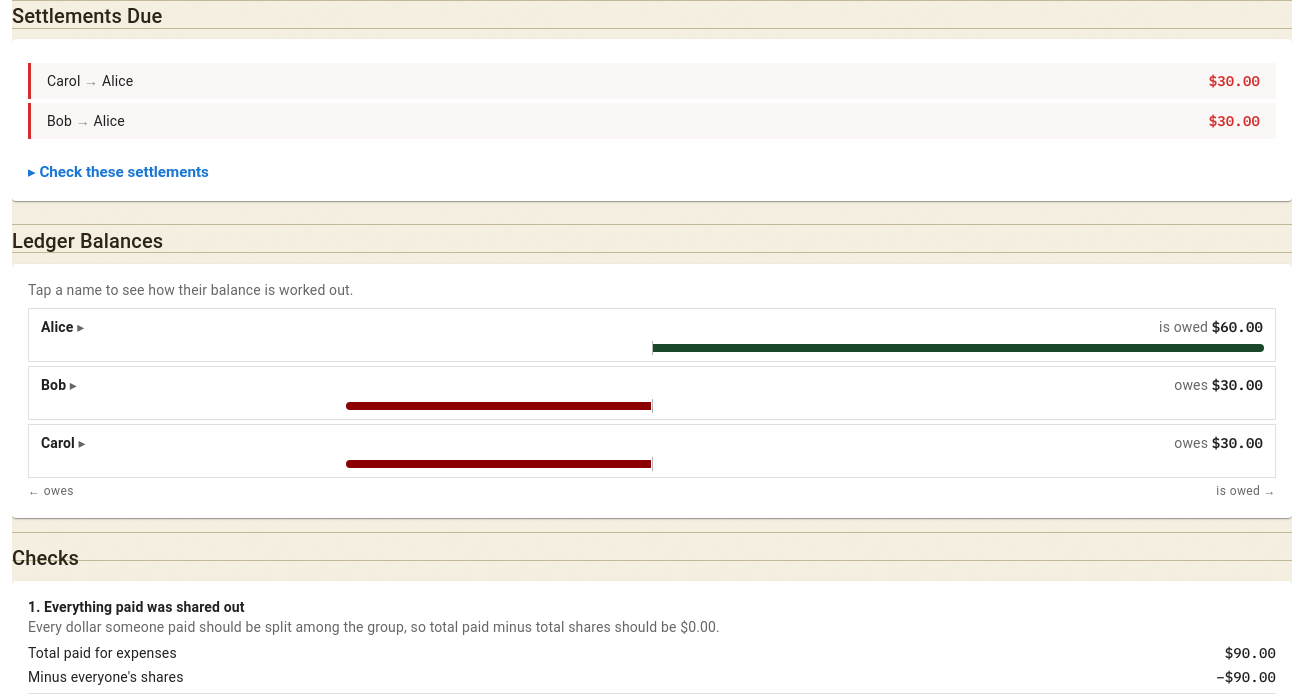
Account Summary checks › shows the settlements leaving everyone at $0.00
What coordinates should you click on to do the following:
click the button "▸ Check these settlements"
I would click on:
 (118, 172)
Its box is [28,159,209,185].
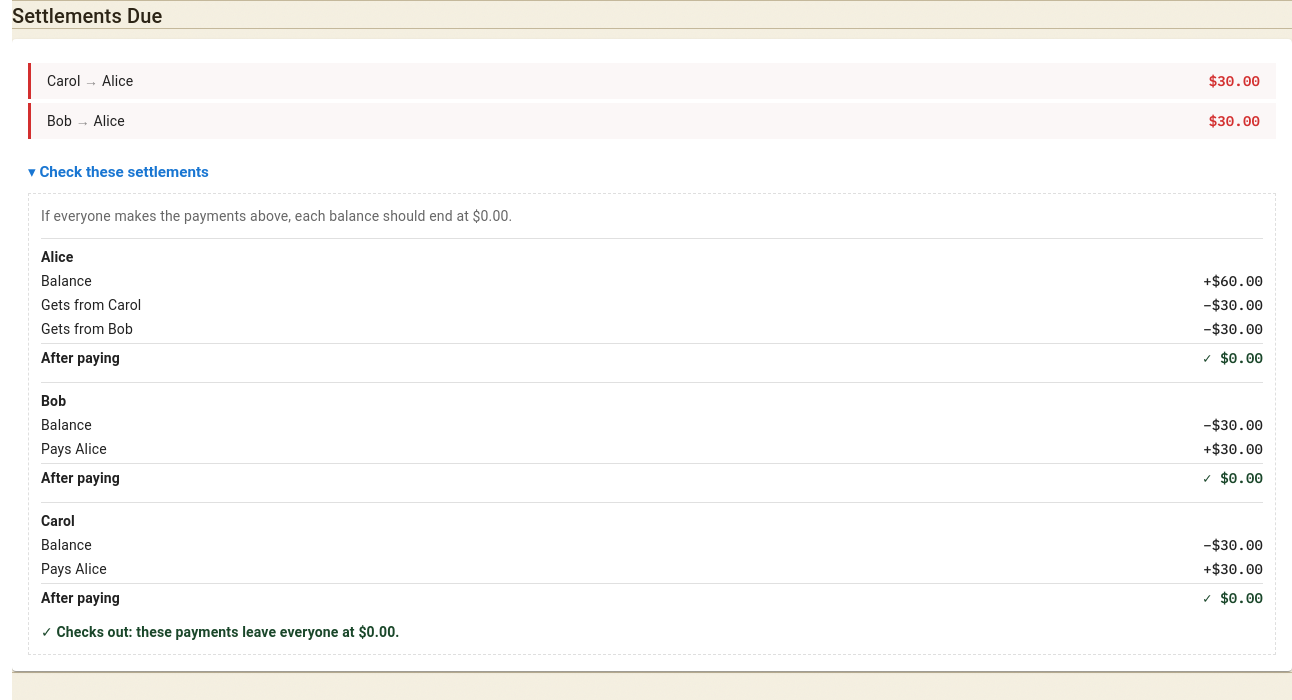
Expected: the text "✓ Checks out: these payments leave everyone at $0.00." is shown, [41,624,400,640]
Expected: the text "Pays Alice" is shown 2 times, [41,439,107,459]; [41,559,107,579]
Expected: the 2nd text "+$30.00" is shown, [1203,559,1263,579]
